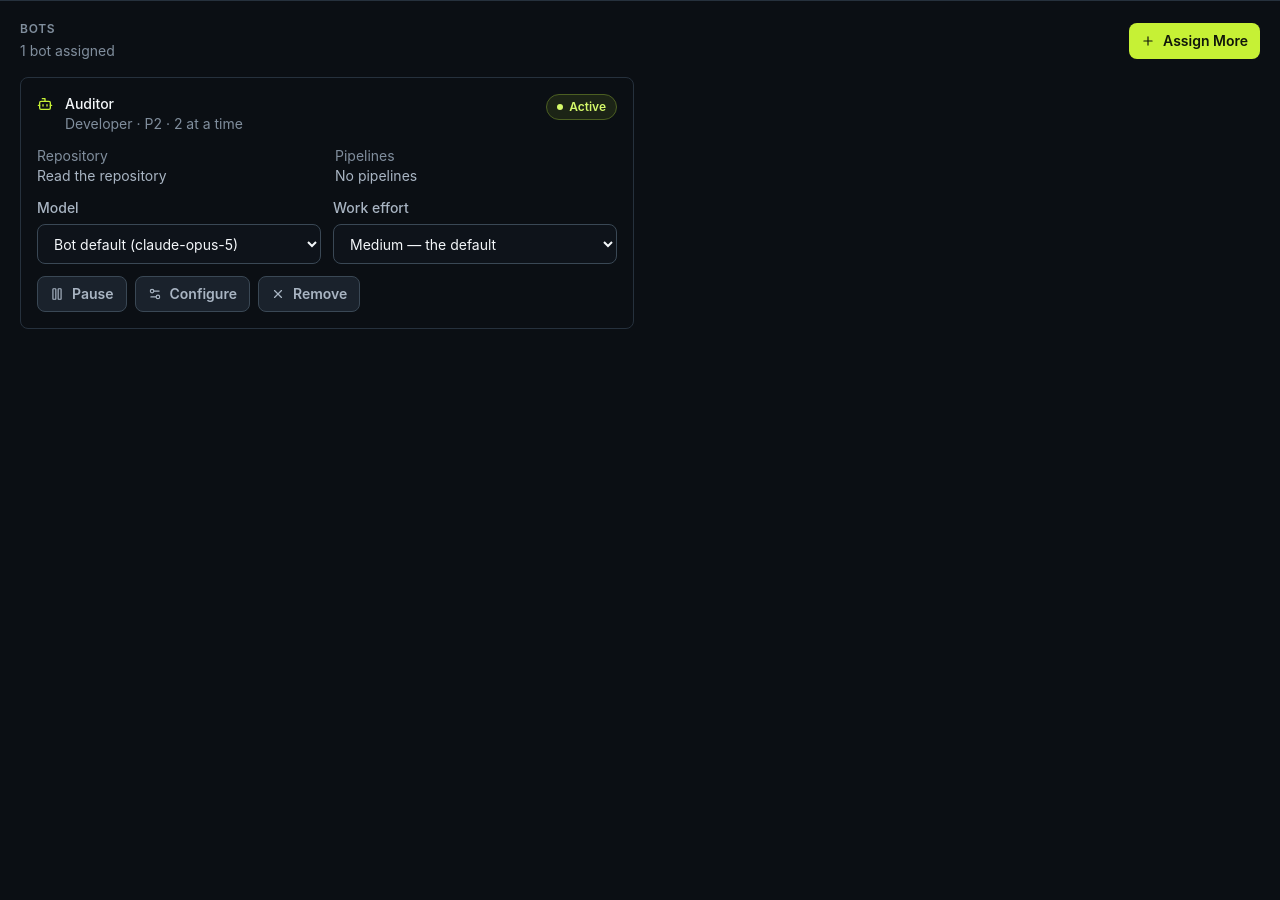
Test: assigning several bots at once › warns that assigning a bot from another project moves it
Click the button "Assign More": (1194, 41) left=1129, top=23, right=1260, bottom=59
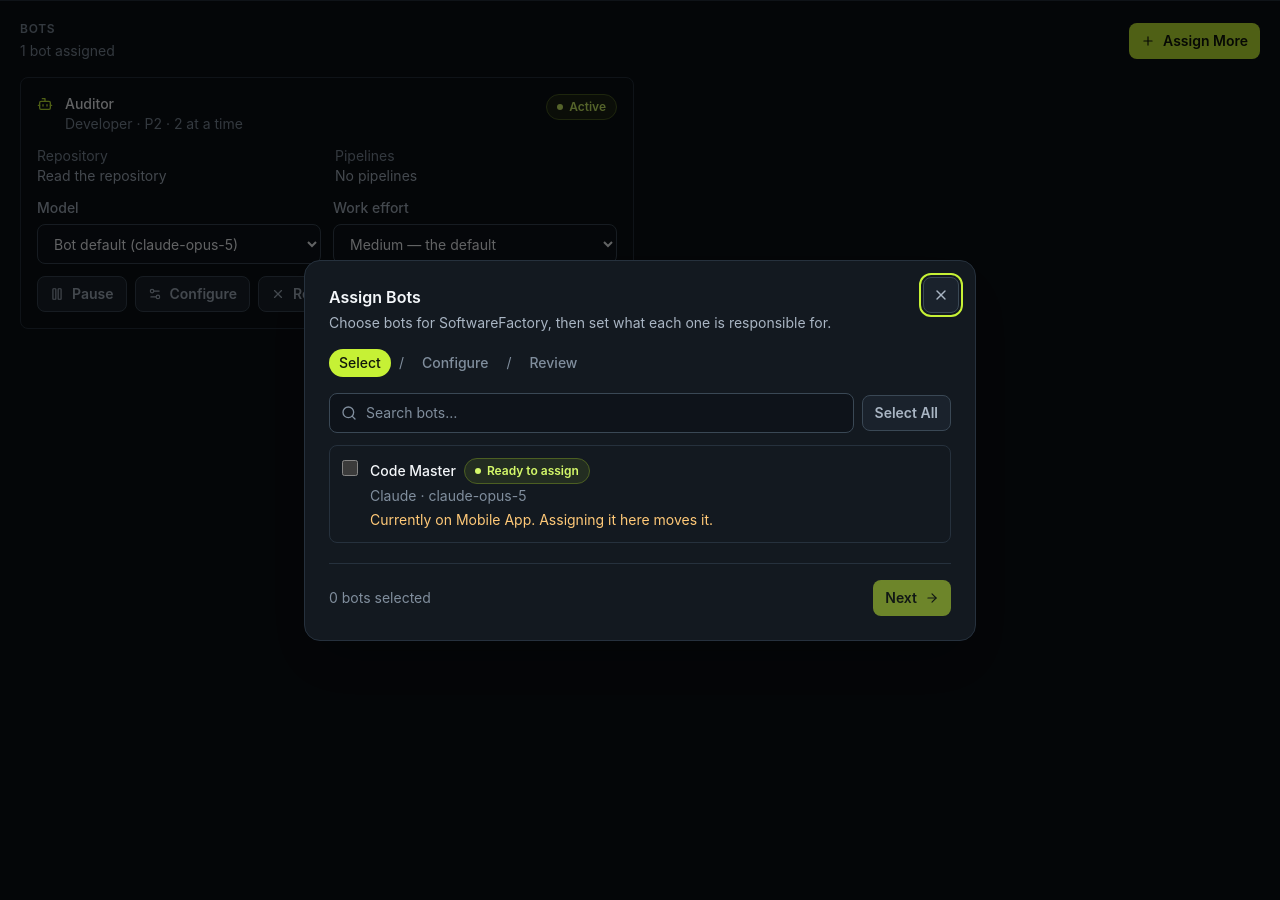
Result: the text "Currently on Mobile App. Assigning it here moves it." is shown at left=370, top=510, right=713, bottom=528
Click the checkbox named "Select Code Master": (350, 468) left=342, top=460, right=358, bottom=476
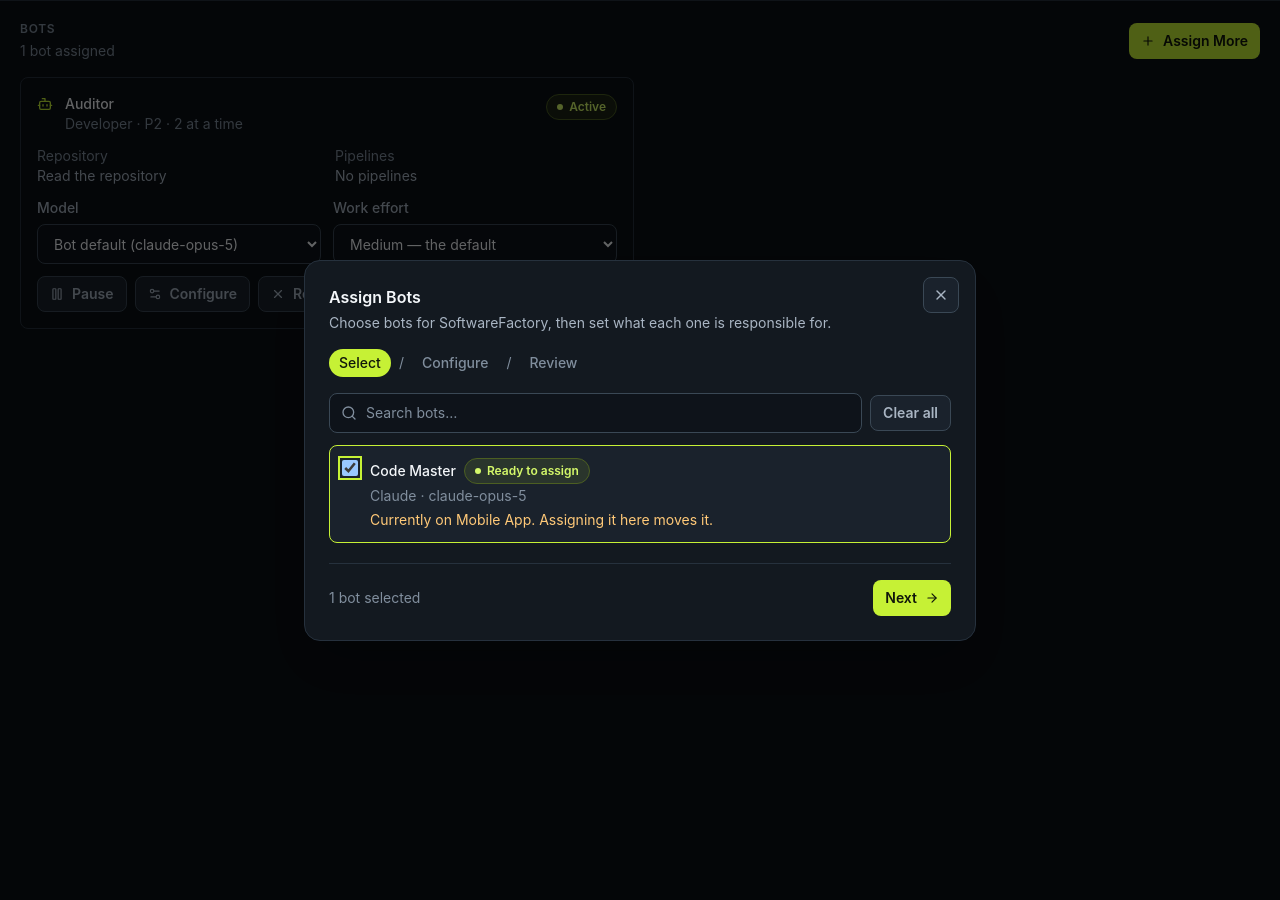
Click the button "Next": (912, 598) left=873, top=580, right=951, bottom=616
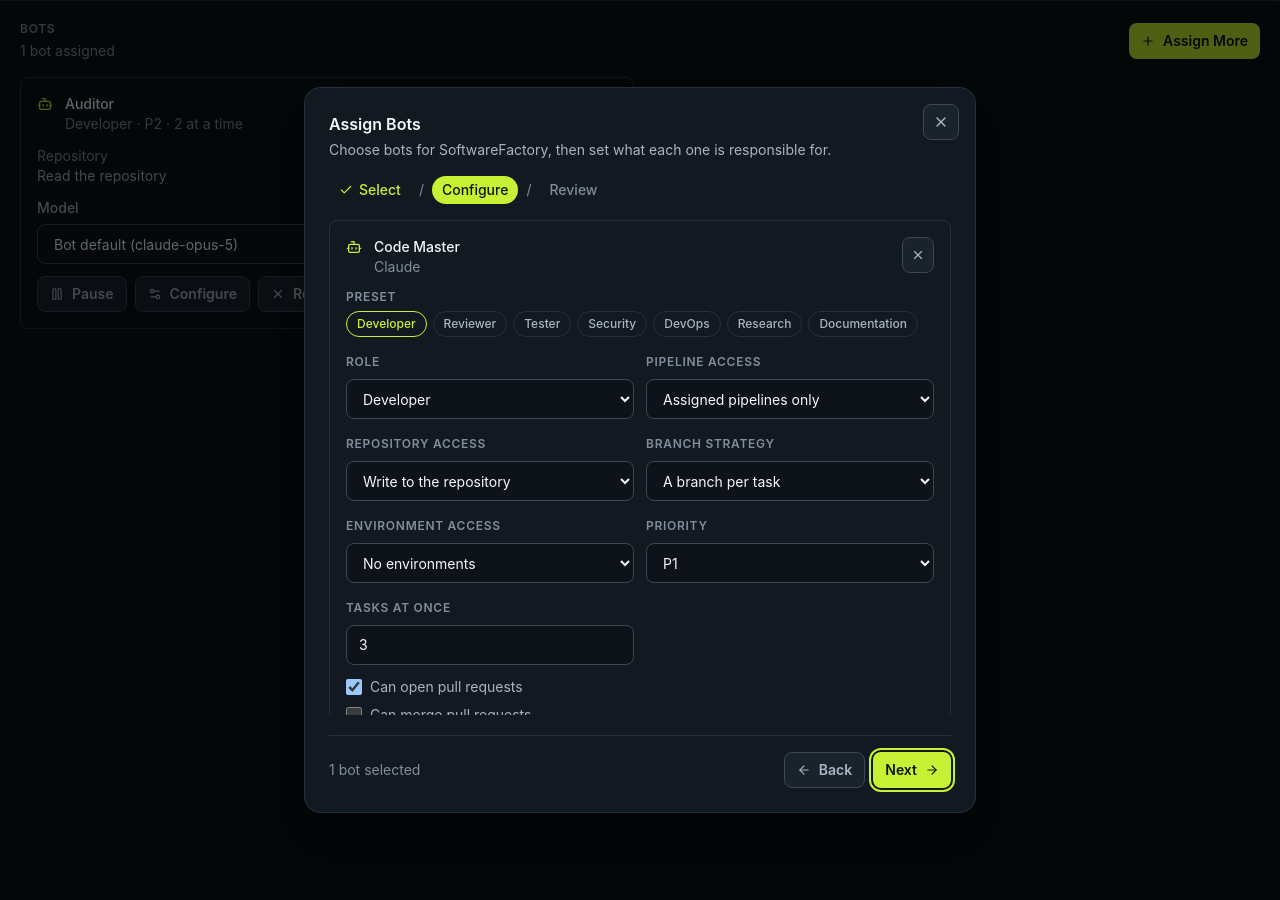
Click the button "Next": (912, 770) left=873, top=752, right=951, bottom=788
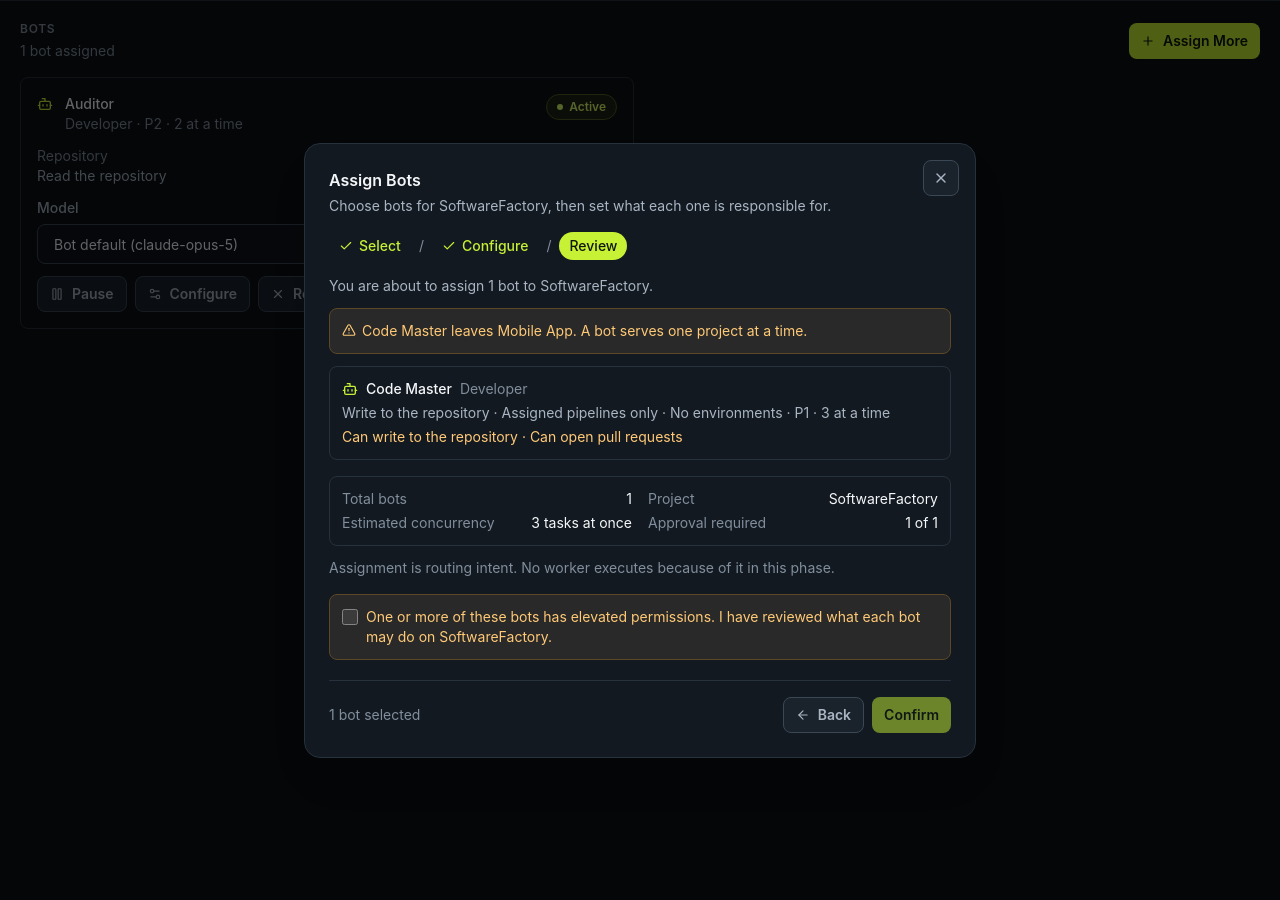
Result: the text "Code Master leaves Mobile App" is shown at left=362, top=322, right=573, bottom=338
